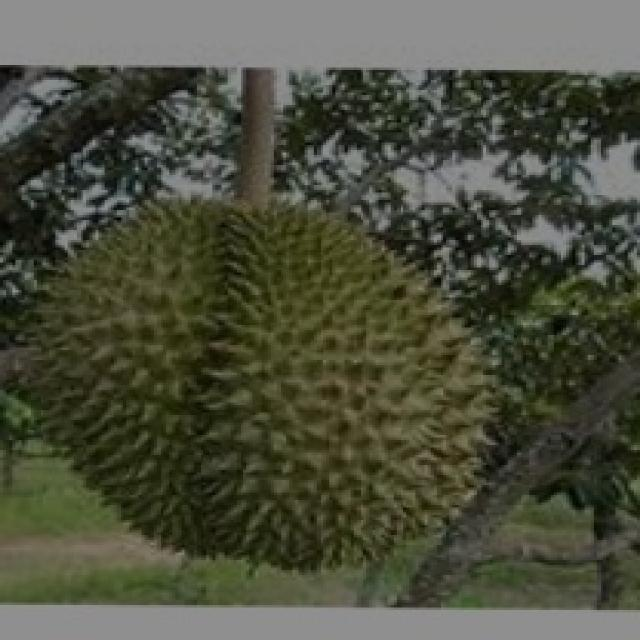fruit: (227, 175, 640, 602), (0, 157, 375, 592)
